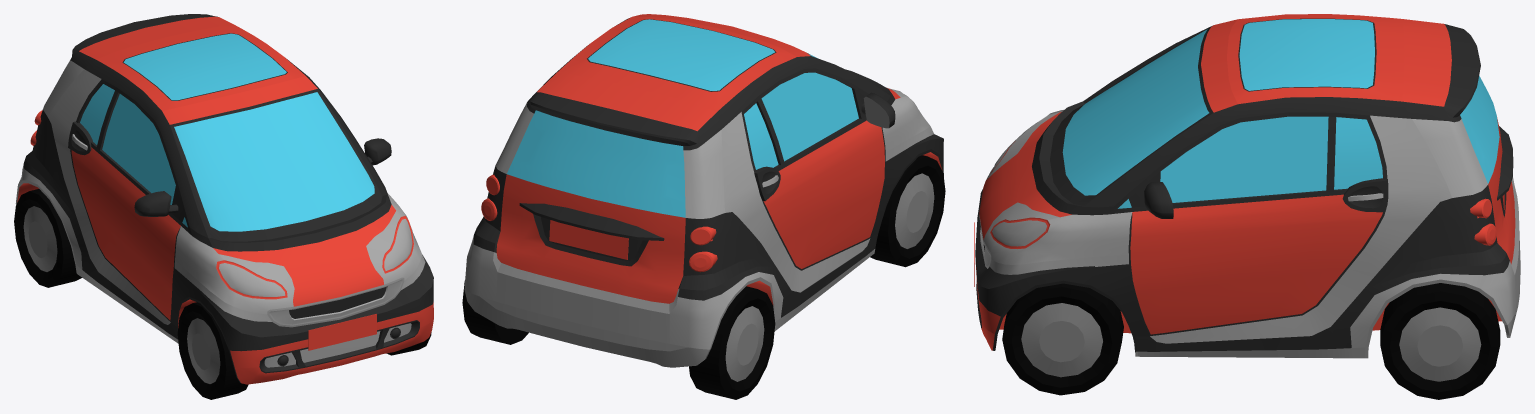
Rendered from little_car.fbx.
The picture shows the model from 3 angles, left to right: view 1: azimuth 30°, elevation 25°; view 2: azimuth 150°, elevation 25°; view 3: azimuth 270°, elevation 25°; orthographic projection. The views are drawn at different scales.
Visible parts, largest first — view 1: Body.002, on_teker, arka_teker; view 2: Body.002, arka_teker, on_teker; view 3: Body.002, arka_teker, on_teker.
Part boxes in pixels (x1=…): Body.002: x1=15, y1=14, x2=433, y2=384; on_teker: x1=177, y1=302, x2=431, y2=399; arka_teker: x1=14, y1=189, x2=81, y2=287; Body.002: x1=464, y1=14, x2=943, y2=367; arka_teker: x1=462, y1=281, x2=775, y2=399; on_teker: x1=870, y1=155, x2=945, y2=267; Body.002: x1=974, y1=14, x2=1520, y2=358; arka_teker: x1=1380, y1=283, x2=1500, y2=399; on_teker: x1=1002, y1=283, x2=1123, y2=395.
Bounding box in the file's own units: 174 × 154 × 269.
